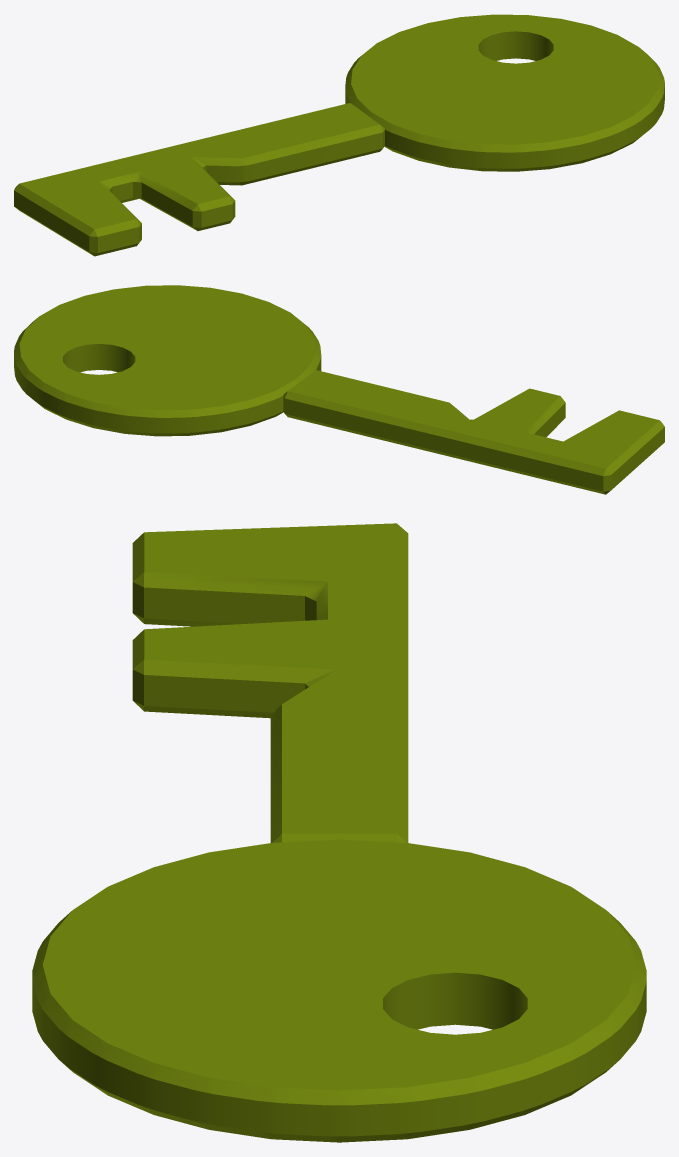
Rendered from Key.obj.
3 renders of one model, top to bottom at view 1: azimuth 30°, elevation 25°; view 2: azimuth 150°, elevation 25°; view 3: azimuth 270°, elevation 25°, orthographic. The views are drawn at different scales.
Visible parts, largest first — view 1: Cylinder001; view 2: Cylinder001; view 3: Cylinder001.
Part boxes in pixels (<box>): Cylinder001: <box>14,14,664,256</box>; Cylinder001: <box>14,285,664,494</box>; Cylinder001: <box>32,523,646,1142</box>.
Bounding box in the file's own units: 593 × 25 × 267.
